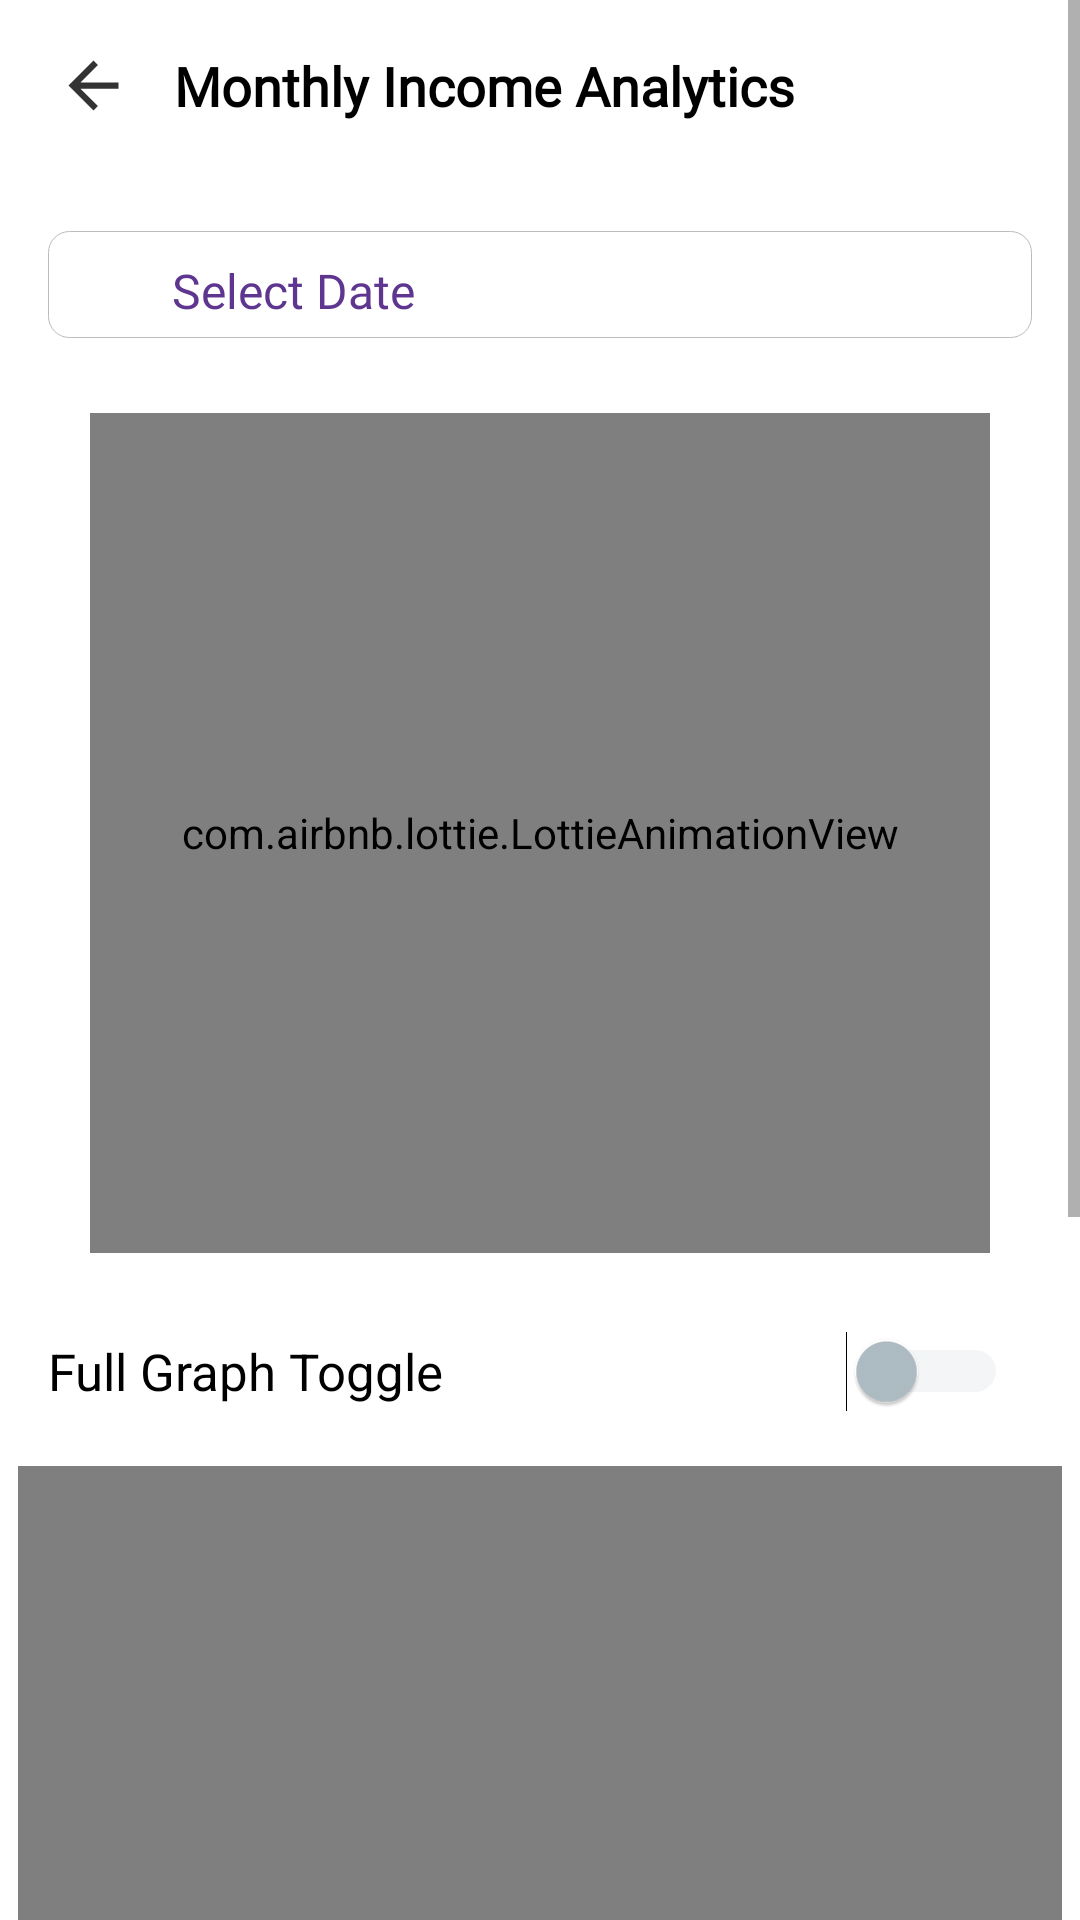

Point at icon controls on the screen. Image size 1080×1920, points as (x,y).
back: (93,85)
